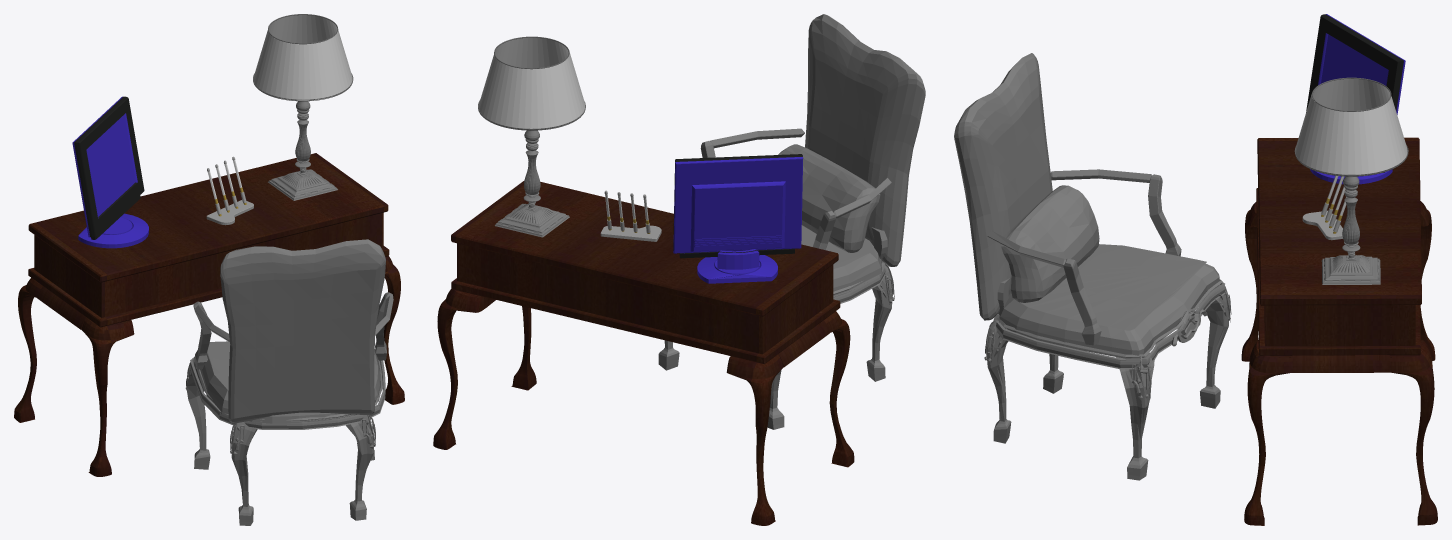
The model's file is desk.obj.
The picture shows the model from 3 angles, left to right: view 1: azimuth 30°, elevation 25°; view 2: azimuth 150°, elevation 25°; view 3: azimuth 270°, elevation 25°; orthographic projection. The views are drawn at different scales.
Parts seen in each view (by area): view 1: ChamferBox03, ChamferBox01, ChamferBox02, Tube01, Rectangle10793, Box4067, Loft727, Loft02, ChamferBox06, ChamferBox04, Loft05, Loft726 (+11 smaller); view 2: ChamferBox01, ChamferBox03, ChamferBox02, Tube01, Rectangle10792, Rectangle10794, ChamferBox04, Loft726, ChamferBox06, Loft09, Loft02, Loft727 (+8 smaller); view 3: ChamferBox01, ChamferBox03, Loft02, Tube01, ChamferBox05, Loft09, Loft10, Loft05, ChamferBox04, Rectangle10793, Loft30, Box4067 (+13 smaller).
Part boxes in pixels (x1,y1,x2,y2): ChamferBox03: [220, 239, 385, 423]; ChamferBox01: [28, 153, 393, 335]; ChamferBox02: [102, 213, 383, 341]; Tube01: [253, 15, 352, 100]; Rectangle10793: [75, 96, 144, 237]; Box4067: [86, 115, 135, 216]; Loft727: [81, 317, 134, 476]; Loft02: [200, 341, 380, 423]; ChamferBox06: [34, 235, 101, 317]; ChamferBox04: [28, 246, 389, 327]; Loft05: [190, 357, 385, 429]; Loft726: [14, 278, 42, 422]; ChamferBox01: [451, 128, 880, 316]; ChamferBox03: [805, 14, 925, 266]; ChamferBox02: [457, 178, 891, 353]; Tube01: [478, 37, 585, 128]; Rectangle10792: [690, 181, 785, 251]; Rectangle10794: [673, 157, 803, 253]; ChamferBox04: [451, 278, 840, 364]; Loft726: [726, 354, 783, 525]; ChamferBox06: [762, 264, 833, 354]; Loft09: [433, 289, 495, 449]; Loft02: [801, 225, 882, 295]; Loft727: [824, 311, 854, 467]; ChamferBox01: [987, 137, 1421, 305]; ChamferBox03: [954, 53, 1052, 320]; Loft02: [998, 244, 1219, 358]; Tube01: [1295, 79, 1407, 174]; ChamferBox05: [1265, 305, 1415, 346]; Loft09: [1189, 312, 1437, 525]; Loft10: [1226, 294, 1294, 525]; Loft05: [993, 282, 1225, 369]; ChamferBox04: [1256, 188, 1420, 355]; Rectangle10793: [1306, 14, 1403, 112]; Loft30: [1116, 352, 1154, 480]; Box4067: [1321, 34, 1387, 85].
Bounding box in the file's own units: 147 × 158 × 173.
12 materials, 1 textured.
